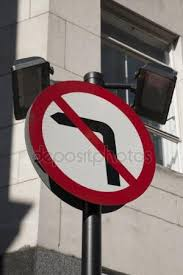No_left_turn: (28, 81, 156, 205)
